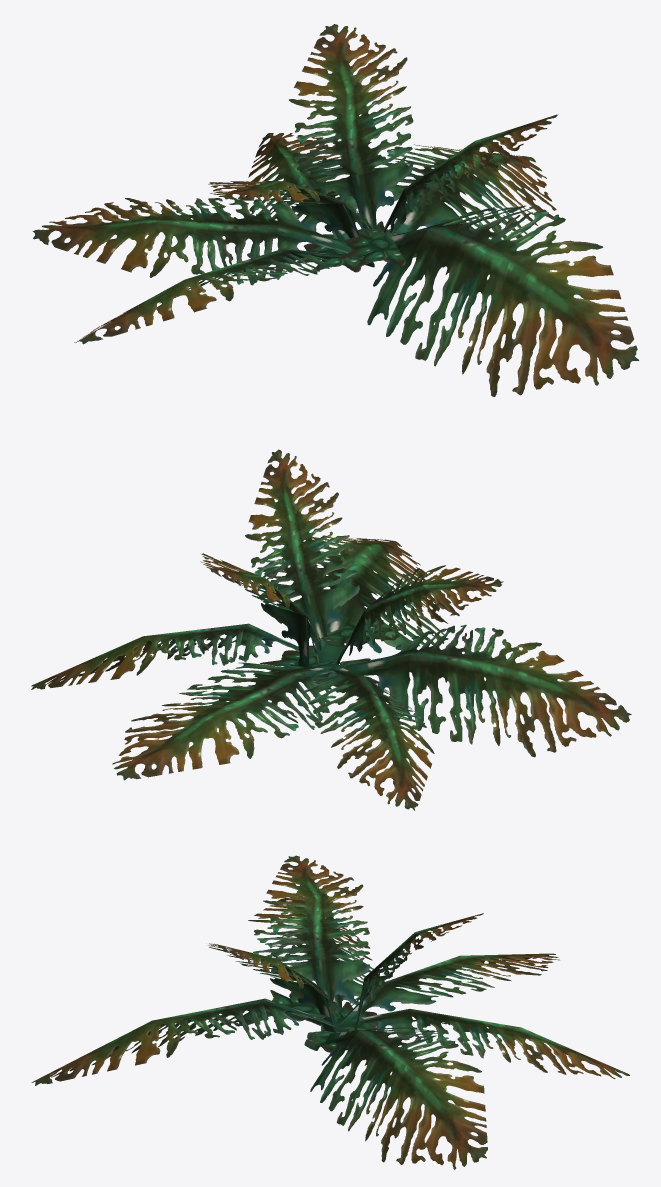
File: stemple_fern_blank_06.fbx
3 renders of one model, top to bottom at view 1: azimuth 30°, elevation 25°; view 2: azimuth 150°, elevation 25°; view 3: azimuth 270°, elevation 25°, orthographic. The views are drawn at different scales.
Parts seen in each view (by area): view 1: obj0.294; view 2: obj0.294; view 3: obj0.294.
Boxes of the visible parts, x1=… form: obj0.294: x1=32, y1=24, x2=639, y2=396; obj0.294: x1=31, y1=449, x2=631, y2=810; obj0.294: x1=31, y1=855, x2=629, y2=1169.
Bounding box in the file's own units: 3.38 × 1.18 × 3.52.
